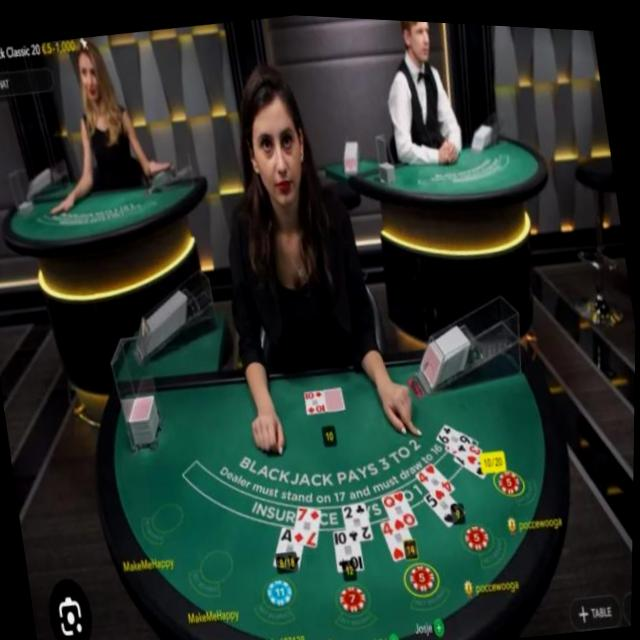Card-10: (335, 527, 366, 567), (305, 386, 327, 411)
Card-2: (344, 498, 375, 538)
Card-3: (446, 439, 484, 460)
Card-4: (417, 458, 457, 497), (381, 516, 419, 557)
Card-5: (425, 488, 467, 523)
Card-6: (437, 418, 474, 451)
Card-7: (296, 502, 322, 545)
Card-A: (275, 523, 305, 569)
Card-Q: (383, 485, 420, 527)
